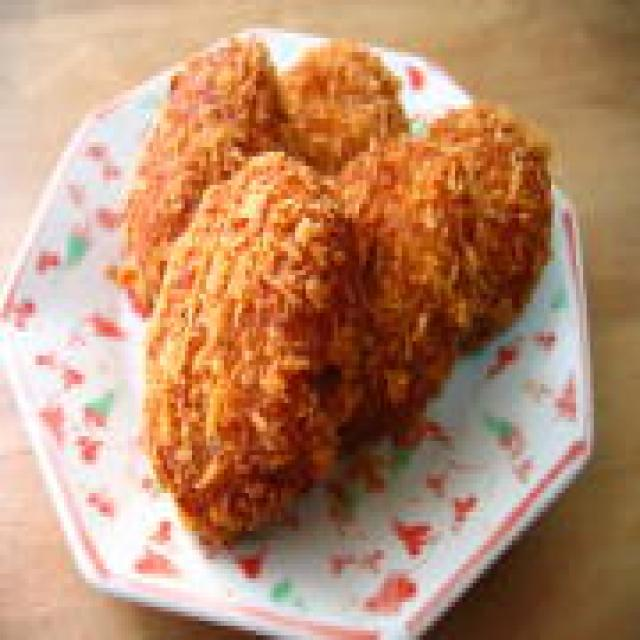炸货点心: (110, 42, 562, 554)
